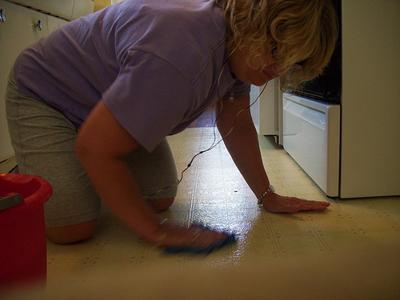person: (4, 1, 340, 252)
